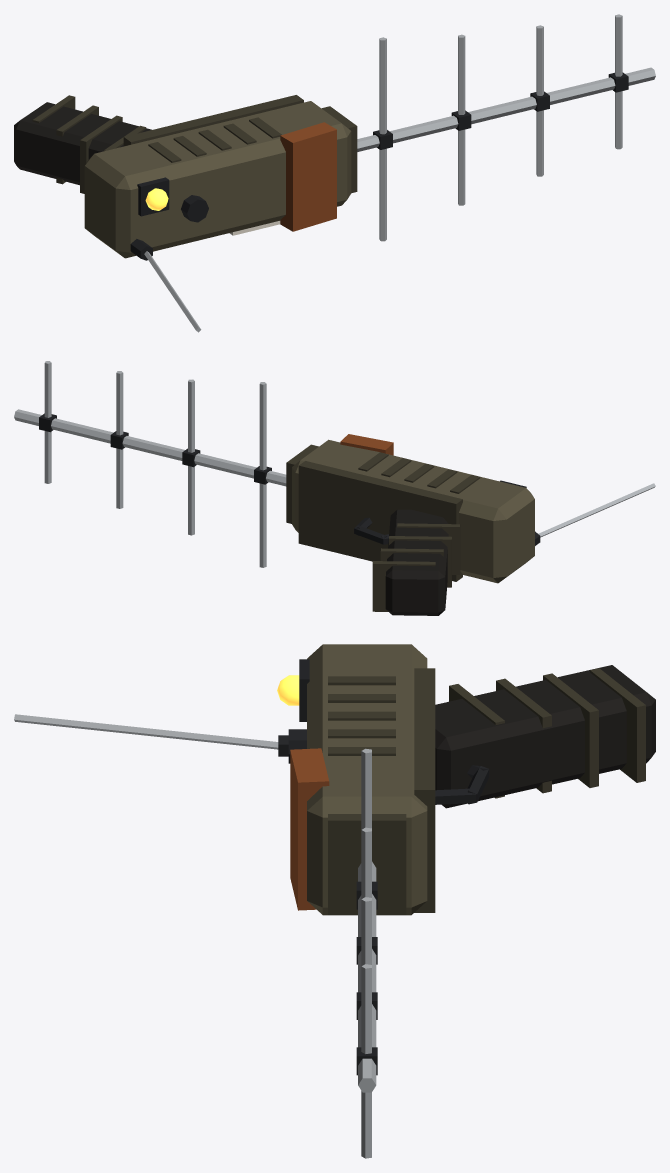
Rendered from jammer.glb.
The picture shows the model from 3 angles, top to bottom: view 1: azimuth 30°, elevation 25°; view 2: azimuth 150°, elevation 25°; view 3: azimuth 270°, elevation 25°; orthographic projection. The views are drawn at different scales.
Parts seen in each view (by area): view 1: jammer; view 2: jammer; view 3: jammer.
Part boxes in pixels (x1,y1,x2,y2): jammer: (14,14,655,332); jammer: (14,361,655,615); jammer: (14,644,655,1158).
Bounding box in the file's own units: 0.3685 × 0.1222 × 0.2457.
